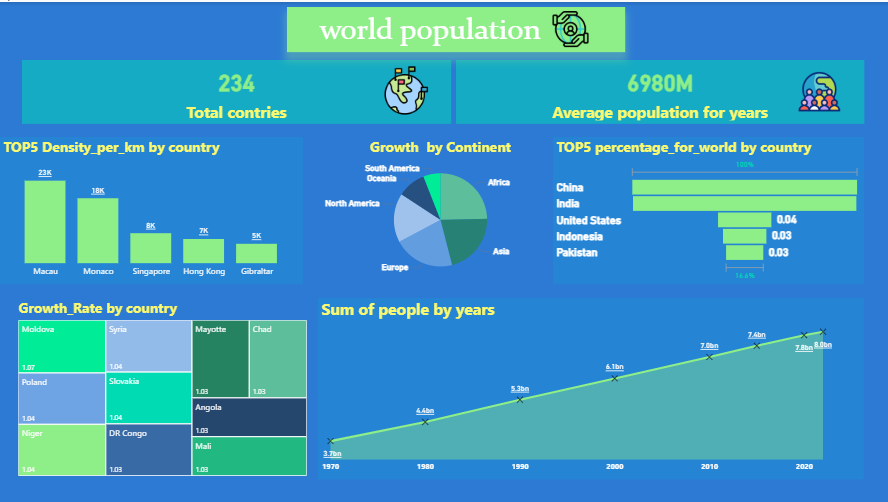

Layout of this report page (visuals, bound fields, positions):
{"tool":"powerbi","page":{"name":"Page 1","canvas":[1280,720],"ordinal":0},"visuals":[{"type":"card","fields":{"Values":["Table1.Total contries"]},"box":[31.7,83.5,617.8,92.2],"z":0,"group":"g1"},{"type":"columnChart","title":"TOP5 Density_per_km by country","fields":{"Category":["Table1.country_territory"],"Y":["Sum(Table1.Density_per_km)"]},"box":[0,194.4,436.3,211.7],"z":1000,"group":"g4"},{"type":"treemap","title":" Growth_Rate by country","fields":{"Group":["Table2.country_territory"],"Values":["Sum(Table2.Growth_Rate)"]},"box":[21.6,426.2,424.8,260.6],"z":2000},{"type":"funnel","title":"TOP5 percentage_for_world by country","fields":{"Category":["Table4.country_territory"],"Y":["Sum(Table4.population_percentage_for_world)"]},"box":[796.3,194.4,447.8,211.7],"z":3000},{"type":"pieChart","title":" Growth  by Continent","fields":{"Category":["Table5.Continent"],"Y":["Sum(Table5.Sum_GROWTH)"]},"box":[462.2,194.4,344.2,211.7],"z":4000},{"type":"areaChart","title":"Sum of people by years","fields":{"Category":["Table6.year"],"Y":["Sum(Table6.num_people)"]},"box":[457.9,426.2,786.2,260.6],"z":5000,"group":"g3"},{"type":"card","fields":{"Values":["Table1.Average population for years"]},"box":[656.6,83.5,587.5,92.2],"z":6000,"group":"g2"},{"type":"textbox","box":[413.3,7.2,486.7,64.8],"z":7000,"group":"g5"},{"type":"image","box":[527.5,87.1,115.2,82.1],"z":7001,"group":"g1"},{"type":"image","box":[1141.9,93.6,76.3,70.6],"z":7003,"group":"g2"},{"type":"image","box":[790.1,0,61.7,77.8],"z":7006,"group":"g5"},{"type":"group","id":"g1","title":"Group 1","box":[31.7,83.5,617.8,92.2],"z":7007},{"type":"group","id":"g2","title":"Group 2","box":[656.6,83.5,587.5,92.2],"z":7008},{"type":"group","id":"g3","title":"Group 3","box":[457.9,426.2,786.2,260.6],"z":7009},{"type":"group","id":"g4","title":"Group 4","box":[0,194.4,436.3,211.7],"z":7010},{"type":"group","id":"g5","title":"Group 5","box":[413.3,0,486.7,77.8],"z":7011}]}

Visuals, with their boxes in screenshot pixels (x1, y1, x2, y2), scaled from the page's 1280x720 canvas onto the 888x502 screenshot:
card - Table1.Total contries: <region>22, 58, 451, 123</region>
"TOP5 Density_per_km by country" columnChart: <region>0, 136, 303, 283</region>
" Growth_Rate by country" treemap: <region>15, 297, 310, 479</region>
"TOP5 percentage_for_world by country" funnel: <region>552, 136, 863, 283</region>
" Growth  by Continent" pieChart: <region>321, 136, 559, 283</region>
"Sum of people by years" areaChart: <region>318, 297, 863, 479</region>
card - Table1.Average population for years: <region>456, 58, 863, 123</region>
textbox: <region>287, 5, 624, 50</region>
image: <region>366, 61, 446, 118</region>
image: <region>792, 65, 845, 114</region>
image: <region>548, 0, 591, 54</region>
"Group 1" group: <region>22, 58, 451, 123</region>
"Group 2" group: <region>456, 58, 863, 123</region>
"Group 3" group: <region>318, 297, 863, 479</region>
"Group 4" group: <region>0, 136, 303, 283</region>
"Group 5" group: <region>287, 0, 624, 54</region>
